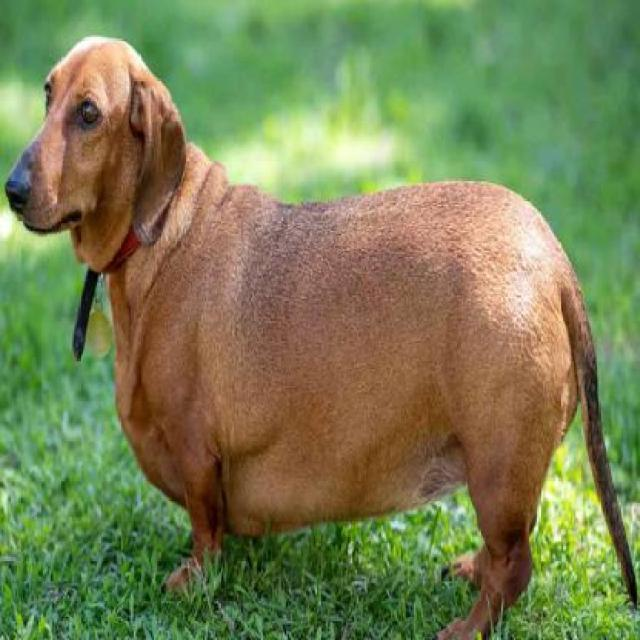Dog: (0, 30, 638, 638)
